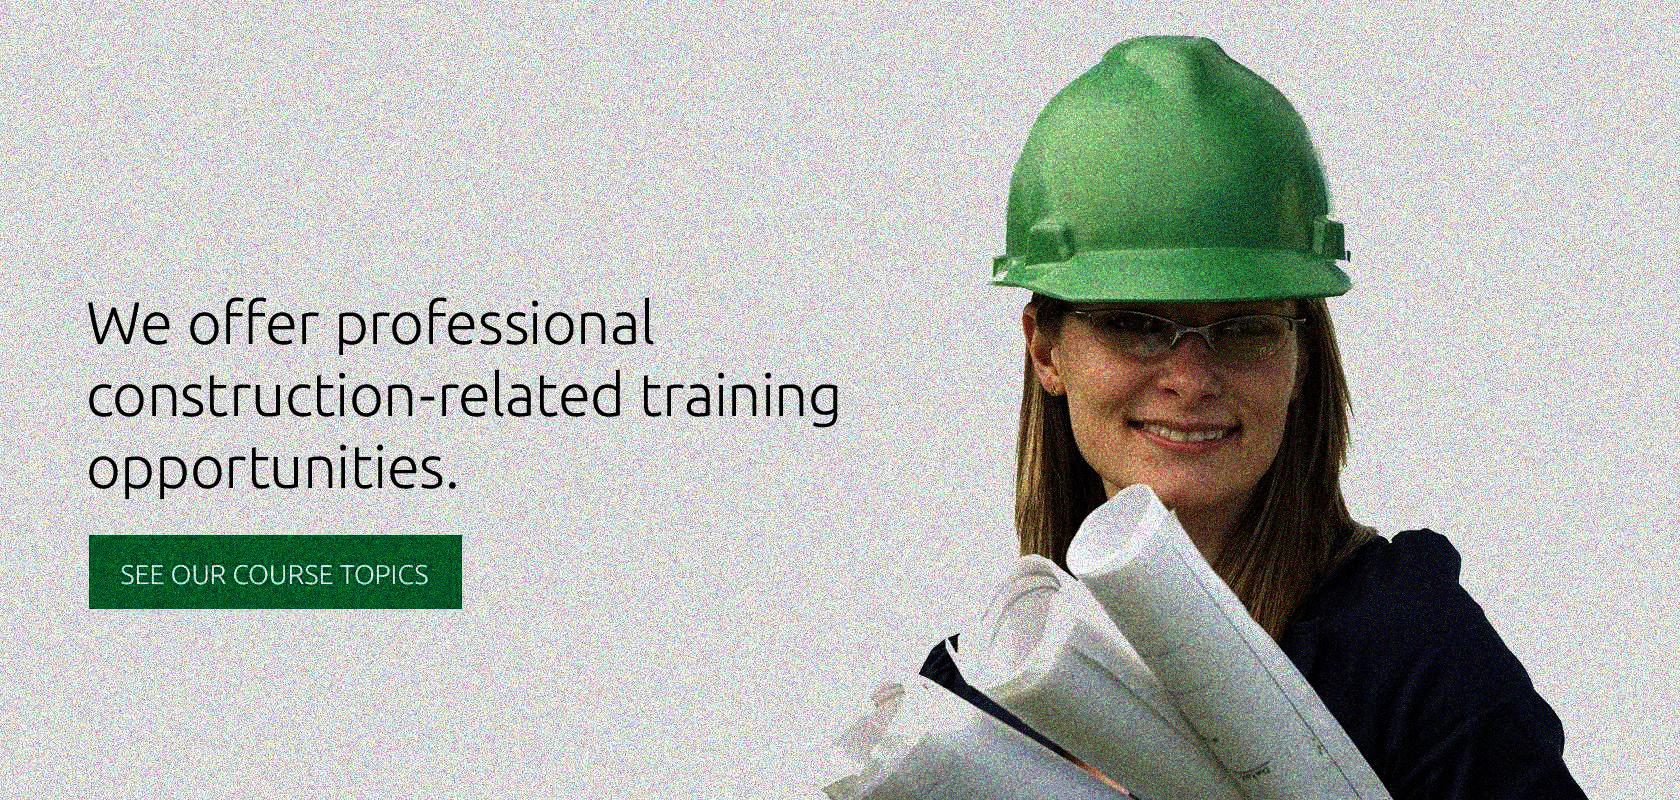helmet: (988, 29, 1356, 514)
